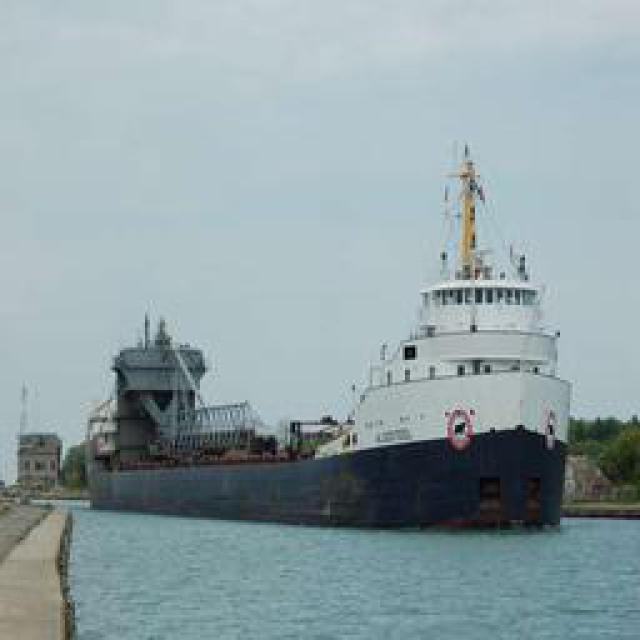Ship: (245, 131, 568, 539)
